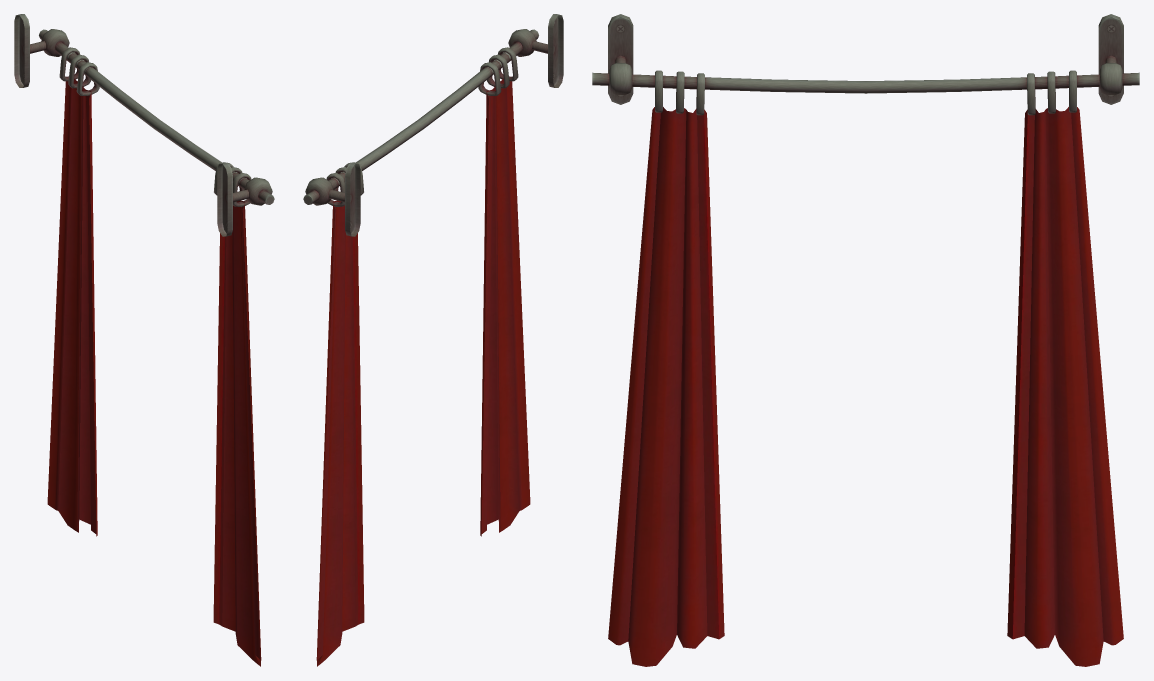
3 renders of one model, left to right at view 1: azimuth 30°, elevation 25°; view 2: azimuth 150°, elevation 25°; view 3: azimuth 270°, elevation 25°, orthographic. The views are drawn at different scales.
Parts seen in each view (by area): view 1: Circle; view 2: Circle; view 3: Circle.
Boxes of the visible parts, x1,y1,x2,y2 form: Circle: (14, 14, 274, 666); Circle: (303, 14, 563, 666); Circle: (592, 14, 1139, 666).
Size of the model in its own units: 181 by 1874 by 1483.
1 material, 1 textured.
